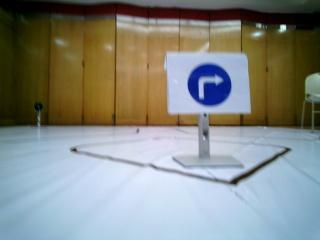right: (172, 59, 247, 113)
